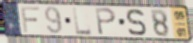8: (150, 9, 171, 38)
9: (44, 6, 64, 35)
F: (20, 6, 41, 34)
L: (72, 6, 94, 36)
P: (94, 7, 118, 37)
S: (126, 8, 148, 38)
